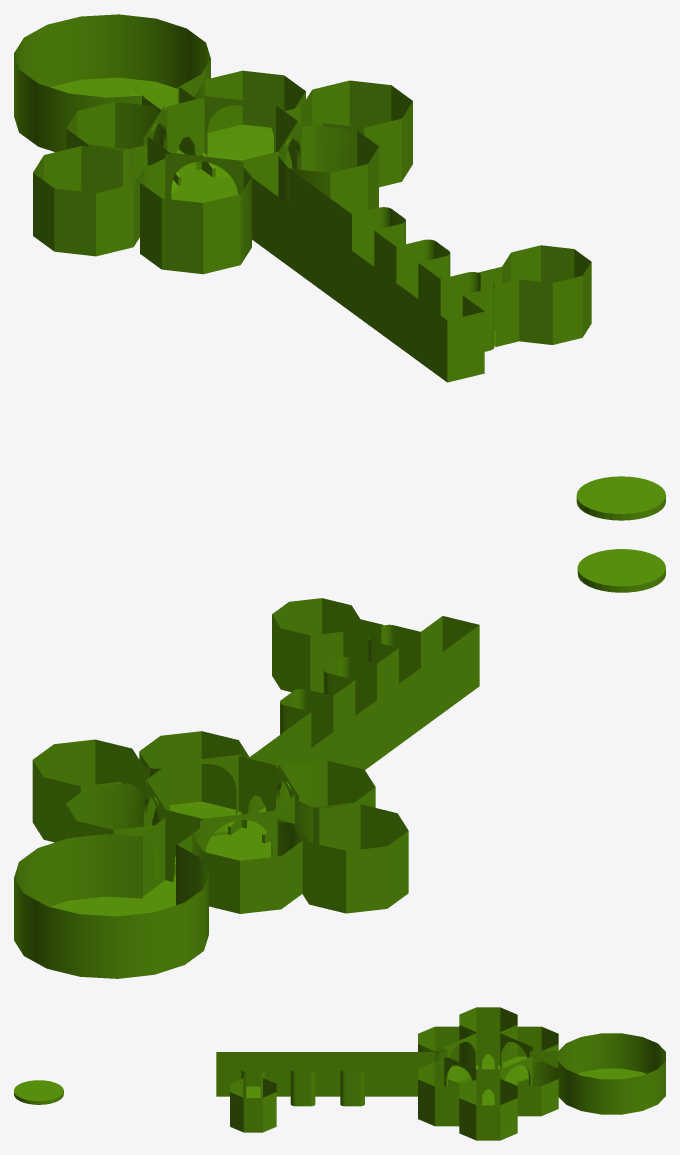
Rendered from Design_Colliders.fbx.
3 views of the same model, one above another, from view 1: azimuth 30°, elevation 25°; view 2: azimuth 150°, elevation 25°; view 3: azimuth 270°, elevation 25° (orthographic). The views are drawn at different scales.
Visible parts, largest first — view 1: Tropes Hall Floor.002, Floor - WinterGarden, Focus Book Floor.001, Hidden Room Floor.002, Floor - RC.005, Floor - C.005, Floor - NA.004, Floor - CR.001, Floor - A.002, Floor - R.006, Spawn Island.001, Archway Wall Fill.001 (+5 smaller); view 2: Floor - WinterGarden, Tropes Hall Floor.002, Focus Book Floor.001, Hidden Room Floor.002, Floor - C.005, Floor - R.006, Floor - CR.001, Floor - A.002, Floor - RC.005, Floor - NA.004, Spawn Island.001, Archway Wall Fill.008 (+4 smaller); view 3: Tropes Hall Floor.002, Floor - WinterGarden, Floor - C.005, Floor - CR.001, Hidden Room Floor.002, Floor - RC.005, Floor - NA.004, Floor - R.006, Focus Book Floor.001, Spawn Island.001, Floor - A.002, Archway Wall Fill.003 (+5 smaller).
Part boxes in pixels (<box>): Tropes Hall Floor.002: <box>255,171,494,382</box>; Floor - WinterGarden: <box>14,14,210,152</box>; Focus Book Floor.001: <box>33,146,144,256</box>; Hidden Room Floor.002: <box>478,245,591,346</box>; Floor - RC.005: <box>140,158,251,274</box>; Floor - C.005: <box>301,80,412,187</box>; Floor - NA.004: <box>194,70,305,178</box>; Floor - CR.001: <box>278,125,378,214</box>; Floor - A.002: <box>123,87,322,241</box>; Floor - R.006: <box>66,102,177,195</box>; Spawn Island.001: <box>576,476,665,520</box>; Archway Wall Fill.001: <box>167,97,204,170</box>; Floor - WinterGarden: <box>14,834,208,978</box>; Tropes Hall Floor.002: <box>253,616,479,812</box>; Focus Book Floor.001: <box>298,804,408,913</box>; Hidden Room Floor.002: <box>272,598,383,693</box>; Floor - C.005: <box>32,739,143,842</box>; Floor - R.006: <box>192,823,302,913</box>; Floor - CR.001: <box>139,731,249,836</box>; Floor - A.002: <box>122,755,319,905</box>; Floor - RC.005: <box>265,760,375,852</box>; Floor - NA.004: <box>65,783,164,878</box>; Spawn Island.001: <box>577,549,665,592</box>; Archway Wall Fill.008: <box>238,756,275,828</box>; Tropes Hall Floor.002: <box>216,1052,430,1106</box>; Floor - WinterGarden: <box>557,1033,665,1114</box>; Floor - C.005: <box>459,1080,517,1140</box>; Floor - CR.001: <box>418,1060,476,1126</box>; Hidden Room Floor.002: <box>230,1078,276,1132</box>; Floor - RC.005: <box>418,1026,475,1086</box>; Floor - NA.004: <box>500,1061,558,1116</box>; Floor - R.006: <box>501,1026,558,1085</box>; Focus Book Floor.001: <box>459,1007,517,1067</box>; Spawn Island.001: <box>14,1080,63,1104</box>; Floor - A.002: <box>431,1051,557,1105</box>; Archway Wall Fill.003: <box>476,1069,500,1105</box>.
Size of the model in its own units: 5614 by 1198 by 15810.
